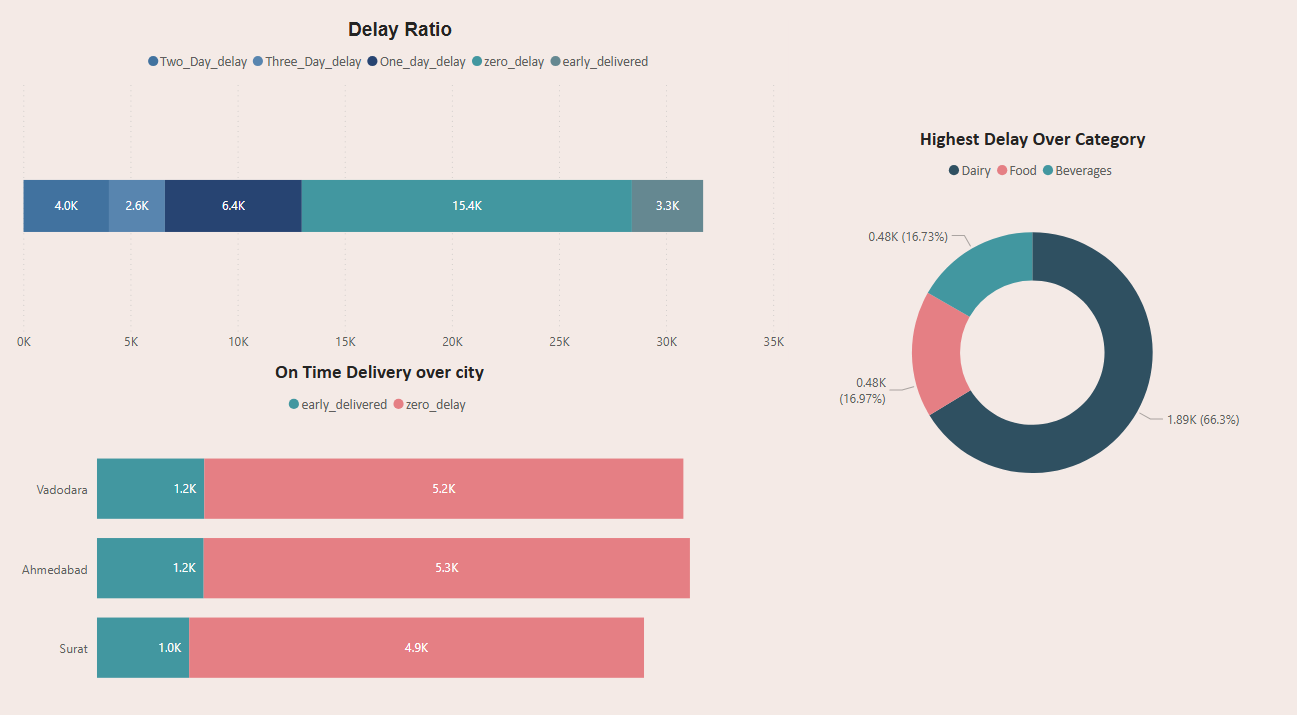

What the dashboard file says about the page in this screenshot:
{"tool":"powerbi","page":{"name":"Delay Rate","canvas":[1280,720],"ordinal":3},"visuals":[{"type":"barChart","title":"Delay Ratio","fields":{"Y":["Measure.Two_Day_delay","Measure.Three_Day_delay","Measure.One_day_delay","Measure.zero_delay","Measure.early_delivered"]},"box":[15.9,25.7,760.6,333.8],"z":0},{"type":"donutChart","title":"Highest Delay Over Category","fields":{"Y":["Measure.Three_Day_delay"],"Category":["dim_products.category"]},"box":[793.6,130.8,442.7,390.1],"z":1000},{"type":"barChart","title":"On Time Delivery over city","fields":{"Category":["dim_customers.city"],"Y":["Measure.early_delivered","Measure.zero_delay"]},"box":[15.9,359.5,720.2,349.7],"z":2000}]}

Visuals, with their boxes in screenshot pixels (x1, y1, x2, y2), scaled from the page's 1280x720 canvas onto the 1297x715 screenshot:
"Delay Ratio" barChart: (16, 26, 787, 357)
"Highest Delay Over Category" donutChart: (804, 130, 1253, 517)
"On Time Delivery over city" barChart: (16, 357, 746, 704)
